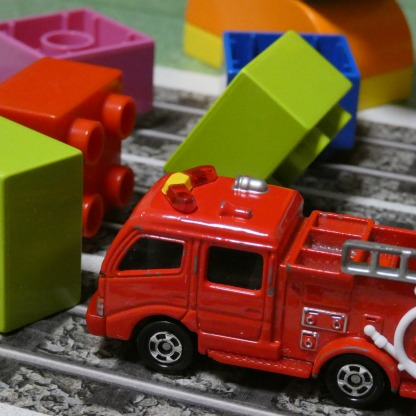car: (88, 164, 416, 412)
